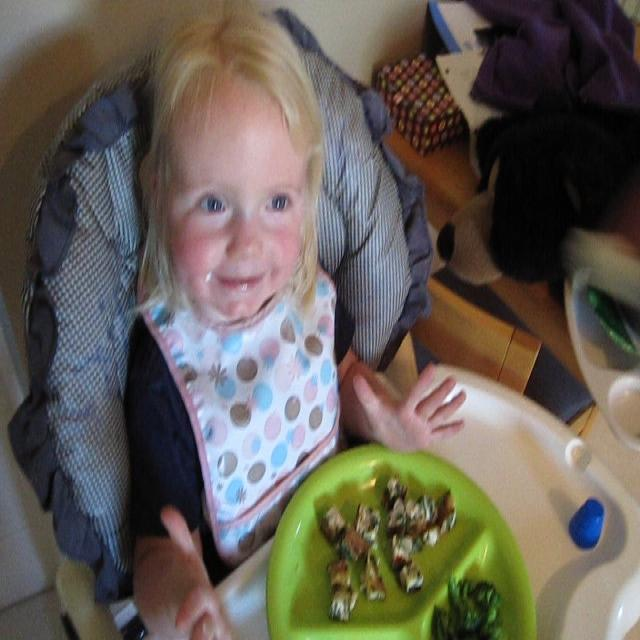chair: (3, 9, 548, 631)
dining table: (212, 363, 640, 632)
